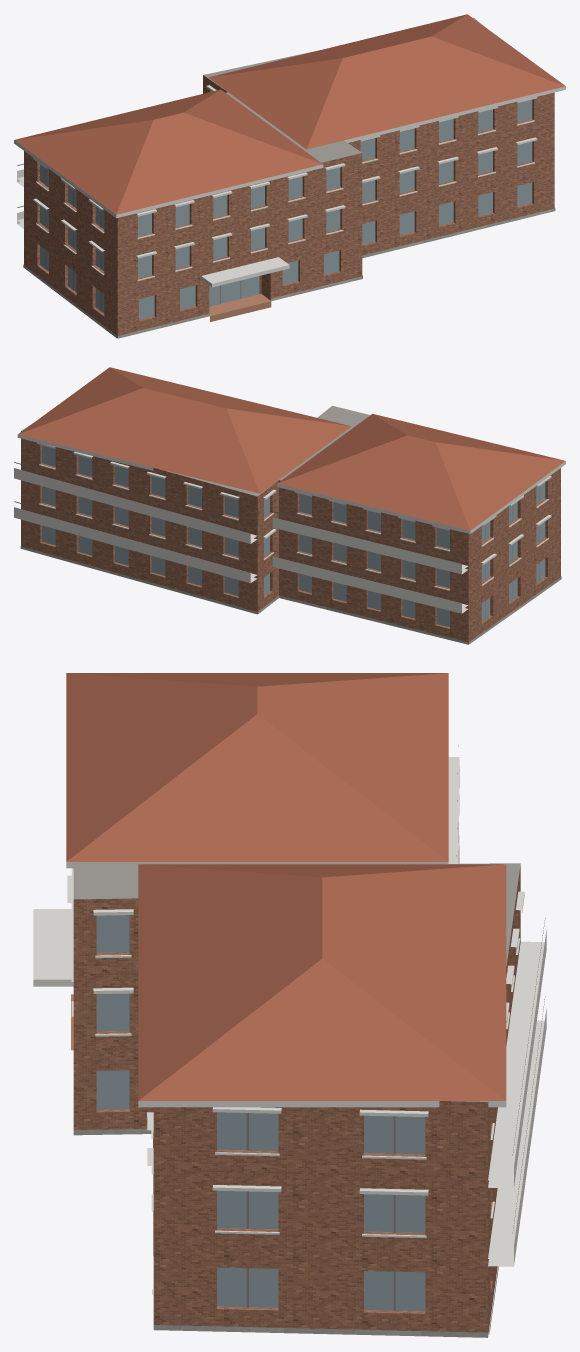
The picture shows the model from 3 angles, top to bottom: view 1: azimuth 30°, elevation 25°; view 2: azimuth 150°, elevation 25°; view 3: azimuth 270°, elevation 25°; orthographic projection. The views are drawn at different scales.
Parts seen in each view (by area): view 1: osm136243003__wall, osm136243003__roofAccent, osm136243003__glass, osm136243003__trim, osm136243003__base, osm136243003__roof, osm136243003__canopy, osm136243003__entranceThreshold_0; view 2: osm136243003__wall, osm136243003__roofAccent, osm136243003__trim, osm136243003__glass, osm136243003__base, osm136243003__frame, osm136243003__roof; view 3: osm136243003__roofAccent, osm136243003__wall, osm136243003__trim, osm136243003__glass, osm136243003__roof, osm136243003__canopy, osm136243003__base, osm136243003__frame.
Boxes of the visible parts, bbox=[...] form: osm136243003__wall: bbox=[24, 75, 554, 338]; osm136243003__roofAccent: bbox=[14, 14, 565, 214]; osm136243003__glass: bbox=[40, 99, 532, 319]; osm136243003__trim: bbox=[14, 85, 565, 281]; osm136243003__base: bbox=[23, 208, 555, 338]; osm136243003__roof: bbox=[117, 17, 483, 338]; osm136243003__canopy: bbox=[201, 257, 289, 287]; osm136243003__entranceThreshold_0: bbox=[209, 294, 271, 321]; osm136243003__wall: bbox=[21, 431, 560, 644]; osm136243003__roofAccent: bbox=[18, 367, 565, 530]; osm136243003__trim: bbox=[14, 434, 565, 613]; osm136243003__glass: bbox=[42, 445, 545, 627]; osm136243003__base: bbox=[20, 546, 561, 644]; osm136243003__frame: bbox=[14, 462, 539, 619]; osm136243003__roof: bbox=[21, 405, 370, 496]; osm136243003__roofAccent: bbox=[66, 673, 506, 1100]; osm136243003__wall: bbox=[73, 865, 520, 1335]; osm136243003__trim: bbox=[66, 757, 546, 1266]; osm136243003__glass: bbox=[96, 915, 425, 1311]; osm136243003__roof: bbox=[73, 862, 520, 1337]; osm136243003__canopy: bbox=[33, 909, 73, 986]; osm136243003__base: bbox=[73, 1129, 498, 1337]; osm136243003__frame: bbox=[246, 745, 545, 1310].
Bounding box in the file's own units: 35.28 × 11.97 × 17.79.
10 materials, 2 textured.
